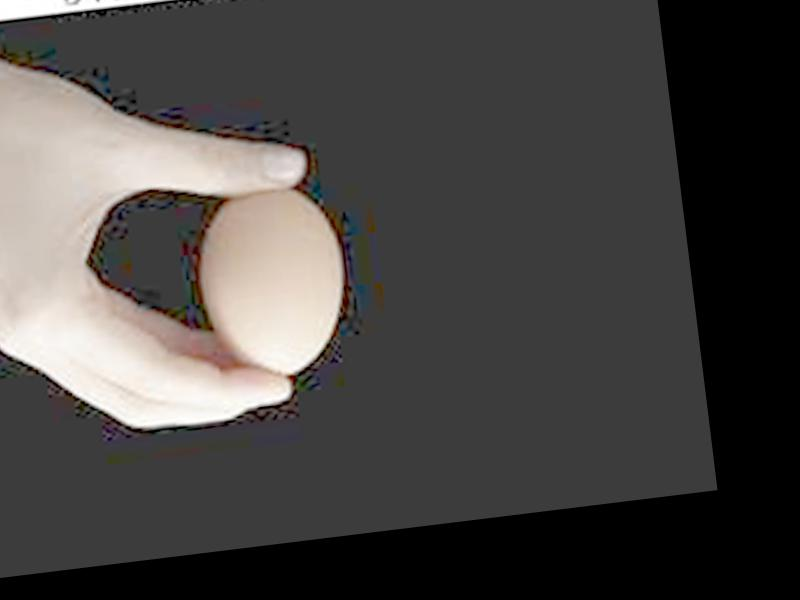Eggs: (192, 181, 353, 389)
